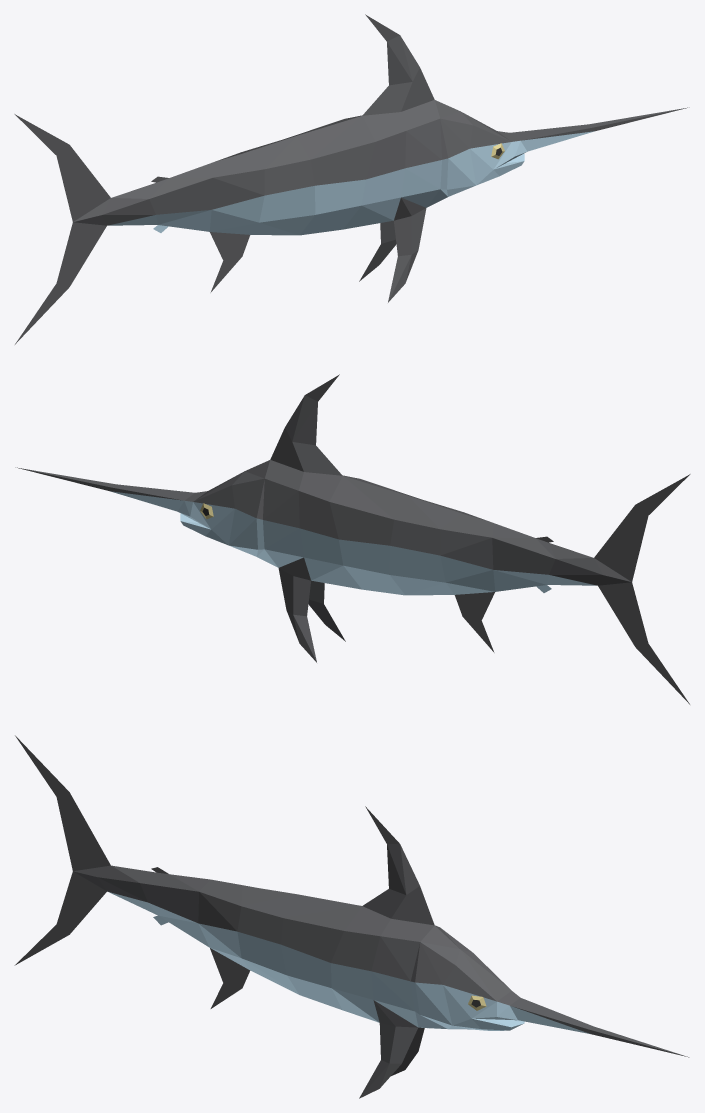
The model's file is Swordfish.fbx.
3 renders of one model, top to bottom at view 1: azimuth 30°, elevation 25°; view 2: azimuth 150°, elevation 25°; view 3: azimuth 330°, elevation 25°, orthographic.
Parts seen in each view (by area): view 1: Swordfish; view 2: Swordfish; view 3: Swordfish.
Boxes of the visible parts, x1,y1,x2,y2 form: Swordfish: [14, 14, 689, 344]; Swordfish: [15, 374, 690, 704]; Swordfish: [14, 735, 689, 1098].
Bounding box in the file's own units: 13.46 × 5.33 × 1.22.
